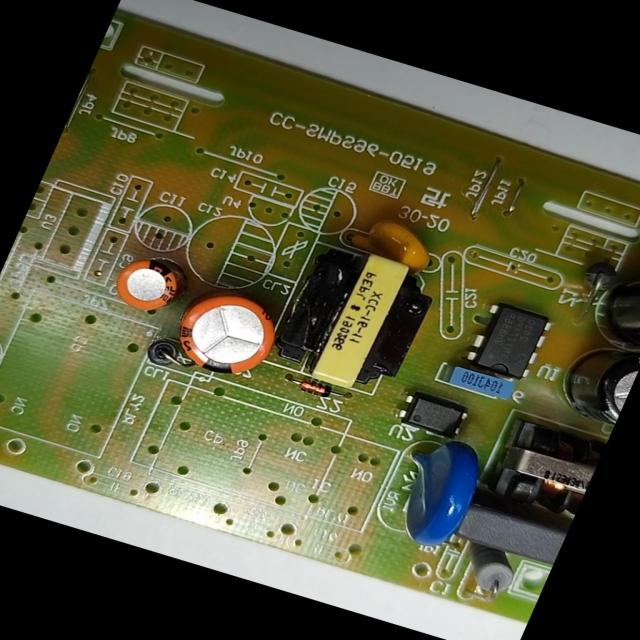Cap1: (162, 283, 288, 386)
Cap2: (104, 253, 187, 319)
Cap3: (548, 333, 640, 426)
Cap4: (590, 244, 640, 347)
MOSFET: (462, 297, 557, 384)
Mov: (374, 430, 496, 554)
Resistor: (449, 540, 525, 598)
Transformer: (261, 233, 448, 400), (475, 414, 606, 525)
